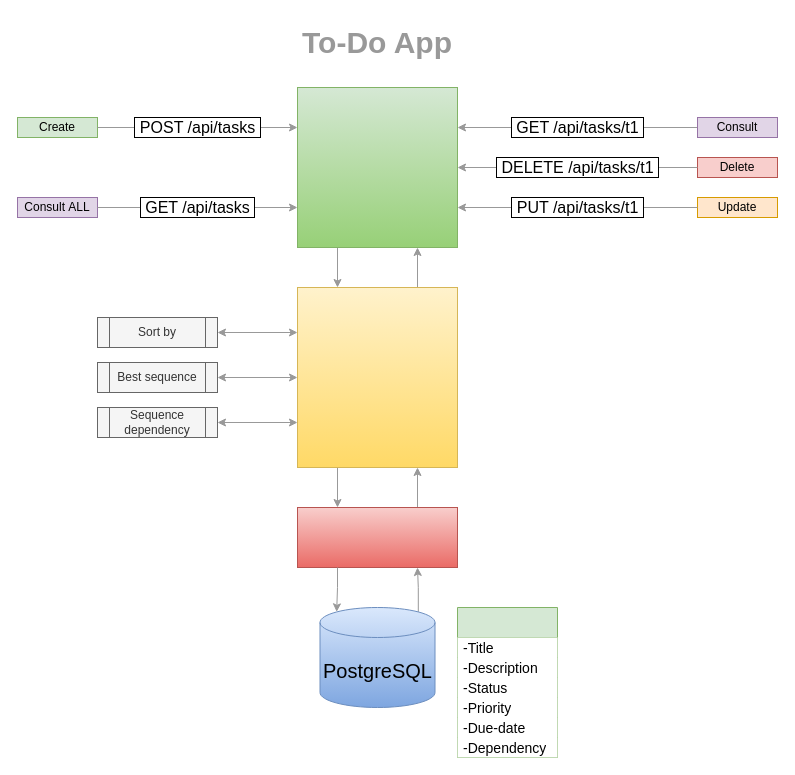
This 795x775 diagram has some shape labels left out. The shapes that lost their labels are listed below. From the top down, each one's box as (x1, y1, x2, y2) in pixels, then its label:
(296, 86, 458, 248): Controller
(296, 286, 458, 468): Service
(296, 506, 458, 568): Model
(456, 606, 558, 758): Task
